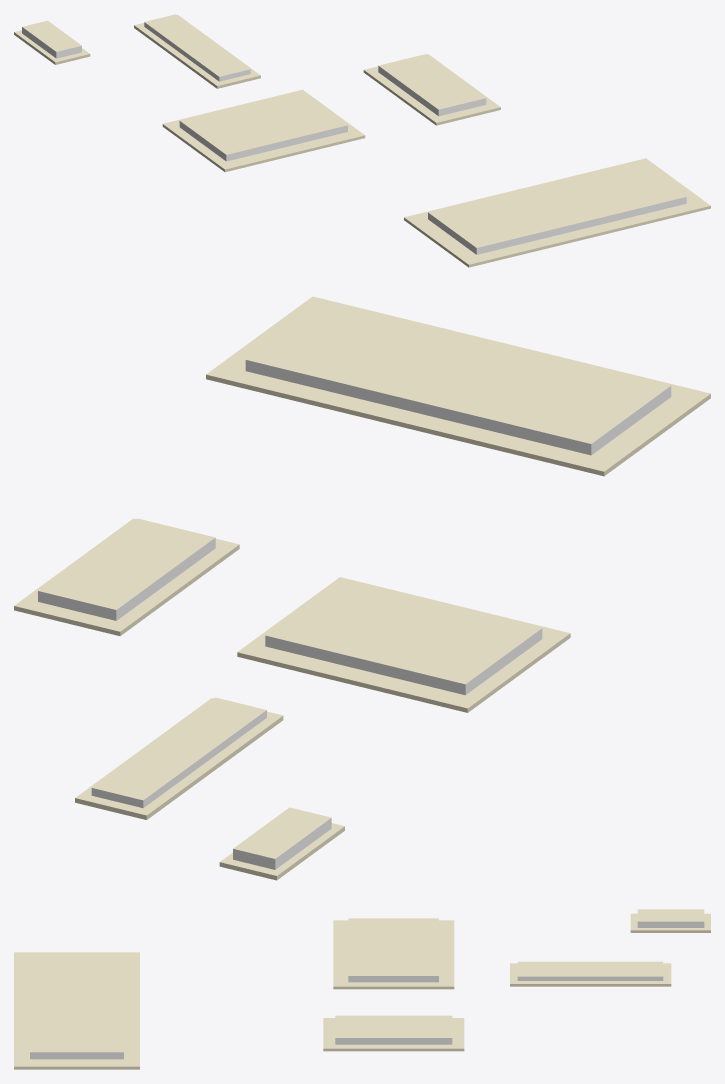
The model's file is CeilingBlocks02.FBX.
3 renders of one model, top to bottom at view 1: azimuth 30°, elevation 25°; view 2: azimuth 150°, elevation 25°; view 3: azimuth 270°, elevation 25°, orthographic. The views are drawn at different scales.
Parts seen in each view (by area): view 1: CeilingBlock001, CeilingBlock002, CeilingBlock003, CeilingBlock004, CeilingBlock005; view 2: CeilingBlock001, CeilingBlock002, CeilingBlock003, CeilingBlock004, CeilingBlock005; view 3: CeilingBlock001, CeilingBlock002, CeilingBlock003, CeilingBlock004, CeilingBlock005.
Part boxes in pixels (<box>): CeilingBlock001: <box>404,158,710,267</box>; CeilingBlock002: <box>162,89,365,172</box>; CeilingBlock003: <box>363,54,500,125</box>; CeilingBlock004: <box>134,14,260,88</box>; CeilingBlock005: <box>14,20,90,64</box>; CeilingBlock001: <box>206,296,710,476</box>; CeilingBlock002: <box>237,577,570,712</box>; CeilingBlock003: <box>14,518,239,635</box>; CeilingBlock004: <box>75,697,283,819</box>; CeilingBlock005: <box>219,807,344,880</box>; CeilingBlock001: <box>14,952,139,1069</box>; CeilingBlock002: <box>333,918,454,989</box>; CeilingBlock003: <box>323,1015,464,1051</box>; CeilingBlock004: <box>510,961,671,986</box>; CeilingBlock005: <box>630,909,710,932</box>.
Bounding box in the file's own units: 2880 × 157 × 5310.
